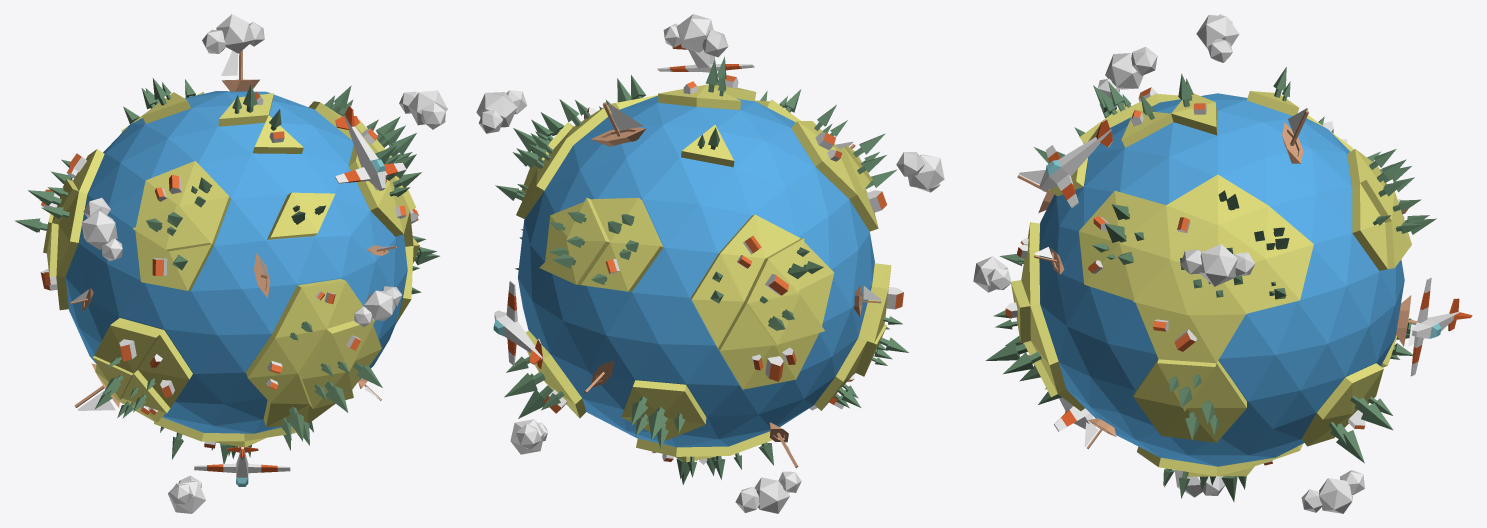
File: lowpoly-planet.glb
3 renders of one model, left to right at view 1: azimuth 30°, elevation 25°; view 2: azimuth 150°, elevation 25°; view 3: azimuth 270°, elevation 25°, orthographic. The views are drawn at different scales.
Parts seen in each view (by area): view 1: Ocean, Terrain, Airplane.001, Cloud.001, Cloud, Cloud.002, Airplane.002, Cloud.005, Cloud.004, Ship, Ship.002; view 2: Ocean, Terrain, Cloud, Cloud.004, Airplane, Cloud.002, Cloud.001, Ship, Cloud.003, Airplane.001; view 3: Ocean, Terrain, Airplane.001, Cloud.002, Cloud.001, Cloud.003, Airplane, Cloud, Cloud.005, Ship, Cloud.004, Airplane.002 (+1 smaller).
Part boxes in pixels (x1,y1,x2,y2): Ocean: (65, 91, 407, 433); Terrain: (43, 92, 419, 446); Airplane.001: (335, 105, 406, 190); Cloud.001: (81, 198, 122, 261); Cloud: (202, 14, 264, 53); Cloud.002: (399, 90, 447, 129); Airplane.002: (194, 447, 290, 486); Cloud.005: (354, 286, 401, 326); Cloud.004: (168, 475, 205, 513); Ship: (221, 50, 259, 91); Ship.002: (74, 363, 119, 410); Ocean: (518, 95, 874, 447); Terrain: (516, 84, 891, 462); Cloud: (663, 14, 728, 57); Cloud.004: (735, 471, 801, 513); Airplane: (493, 280, 542, 368); Cloud.002: (476, 90, 527, 133); Cloud.001: (896, 152, 944, 192); Ship: (591, 102, 646, 146); Cloud.003: (510, 419, 547, 454); Airplane.001: (657, 44, 754, 72); Ocean: (1039, 93, 1404, 466); Terrain: (1011, 91, 1411, 476); Airplane.001: (1039, 119, 1112, 207); Cloud.002: (1180, 244, 1254, 286); Cloud.001: (1097, 46, 1157, 99); Cloud.003: (1301, 470, 1364, 513); Airplane: (1410, 277, 1472, 376); Cloud: (1196, 14, 1239, 62); Cloud.005: (973, 256, 1011, 292); Ship: (1282, 108, 1308, 163); Cloud.004: (1174, 470, 1225, 497); Airplane.002: (1028, 355, 1095, 431).
Bounding box in the file's own units: 2.8 × 3.14 × 2.79.
